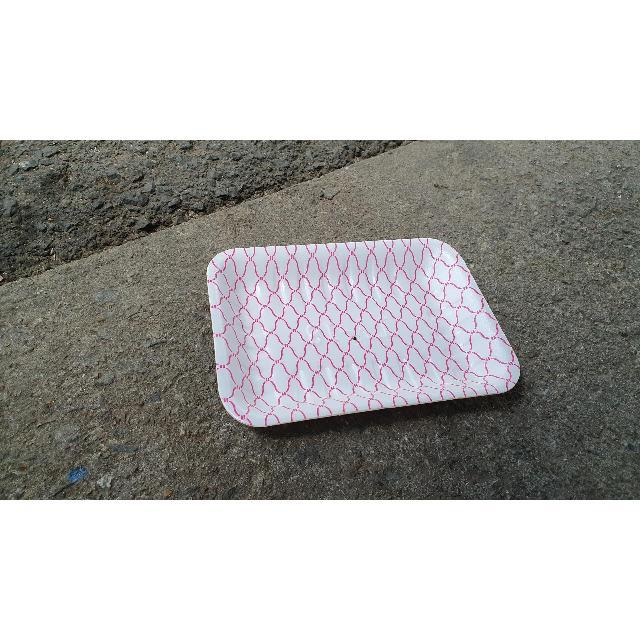Plastico descartable: (205, 238, 522, 432)
